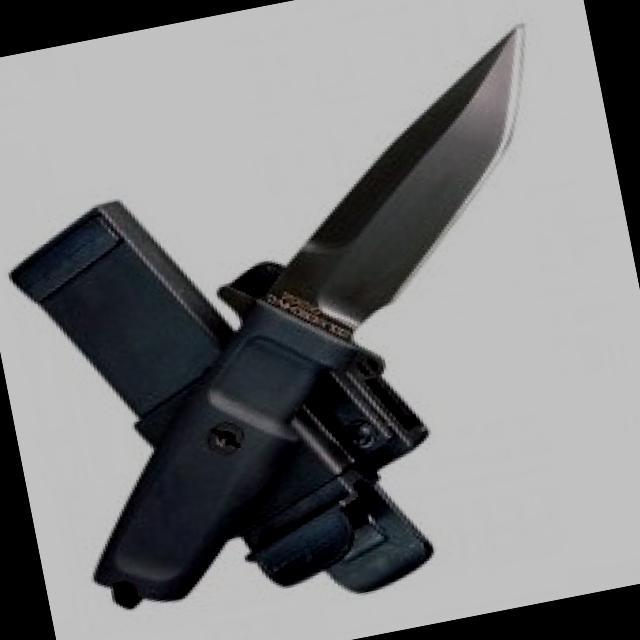knife: (208, 17, 582, 367)
